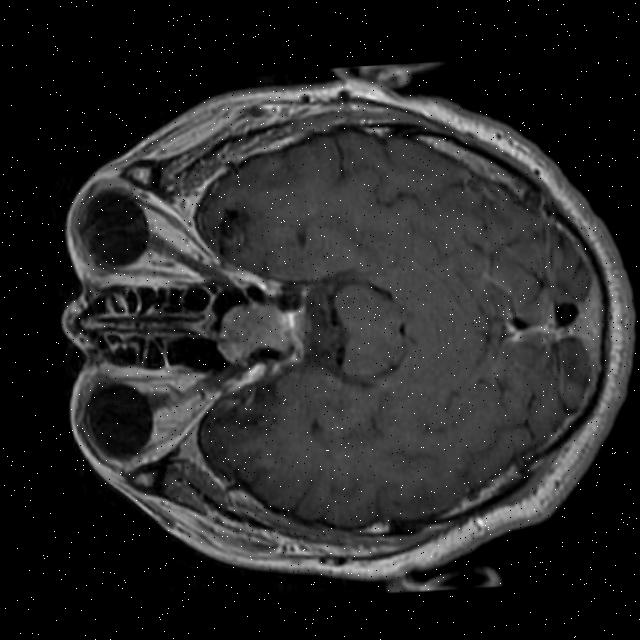Pituitary: (212, 298, 294, 364)
